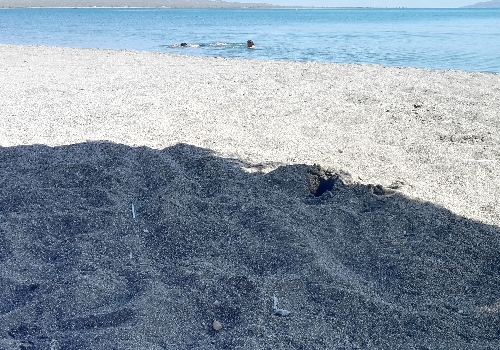trash: (268, 286, 295, 317), (126, 199, 139, 220)
